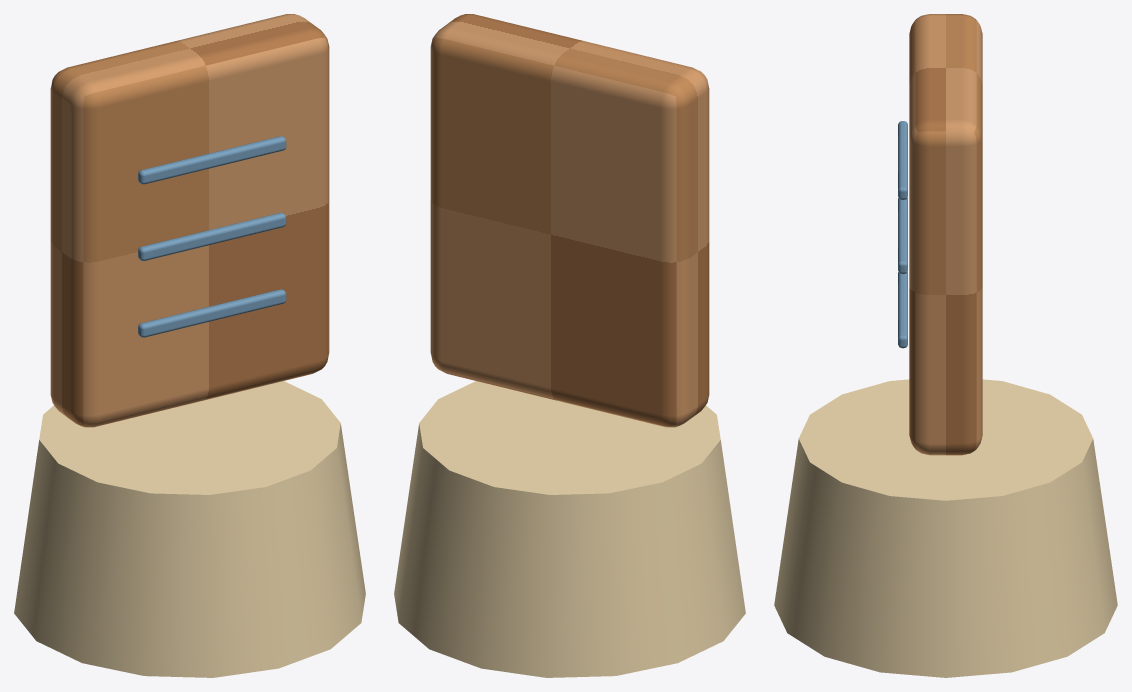
File: tablet.glb
3 renders of one model, left to right at view 1: azimuth 30°, elevation 25°; view 2: azimuth 150°, elevation 25°; view 3: azimuth 270°, elevation 25°, orthographic. The views are drawn at different scales.
Visible parts, largest first — view 1: Tablet, Pedestal, Inscription3, Inscription1, Inscription2; view 2: Tablet, Pedestal; view 3: Pedestal, Tablet, Inscription1, Inscription3, Inscription2.
Boxes of the visible parts, x1,y1,x2,y2 form: Tablet: (50, 14, 329, 427); Pedestal: (14, 381, 365, 677); Inscription3: (138, 289, 286, 337); Inscription1: (138, 136, 286, 184); Inscription2: (138, 213, 286, 260); Tablet: (430, 14, 709, 427); Pedestal: (394, 381, 745, 677); Pedestal: (774, 379, 1117, 677); Tablet: (909, 14, 982, 455); Inscription1: (898, 121, 907, 199); Inscription3: (898, 272, 907, 348); Inscription2: (898, 198, 907, 273).
Size of the model in its own units: 0.84 by 1.45 by 0.84.
3 materials, 1 textured.
